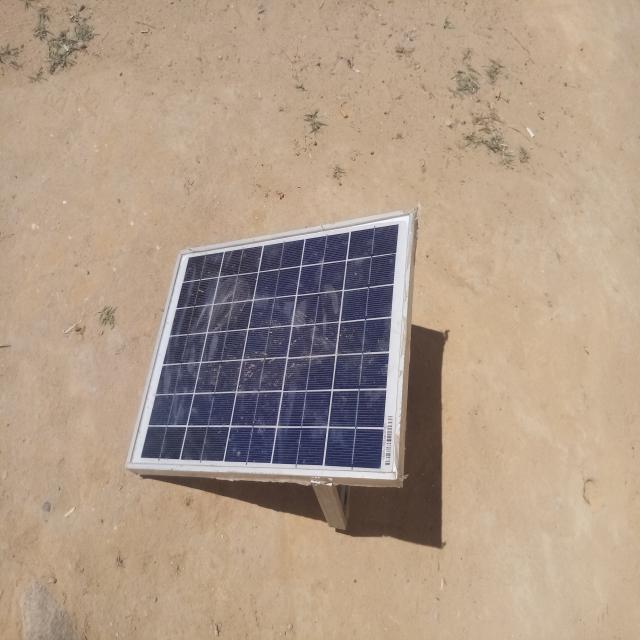faulty: (126, 209, 414, 479)
